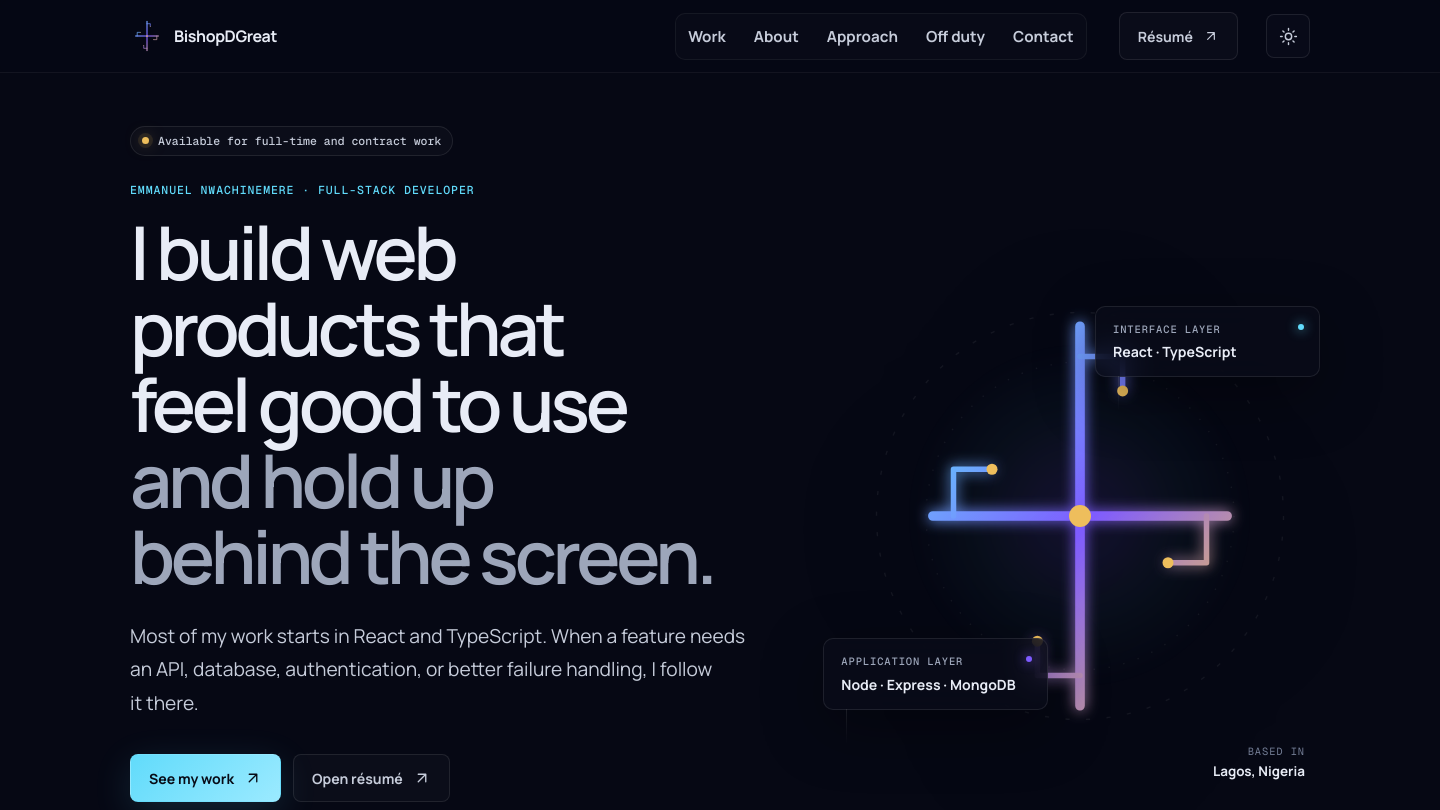
portfolio › switches theme accessibly and persists the choice
What coordinates should you click on to do the following:
click the button named "Switch to light theme"
I would click on:
 (1288, 36)
Its box is [1266, 14, 1310, 58].
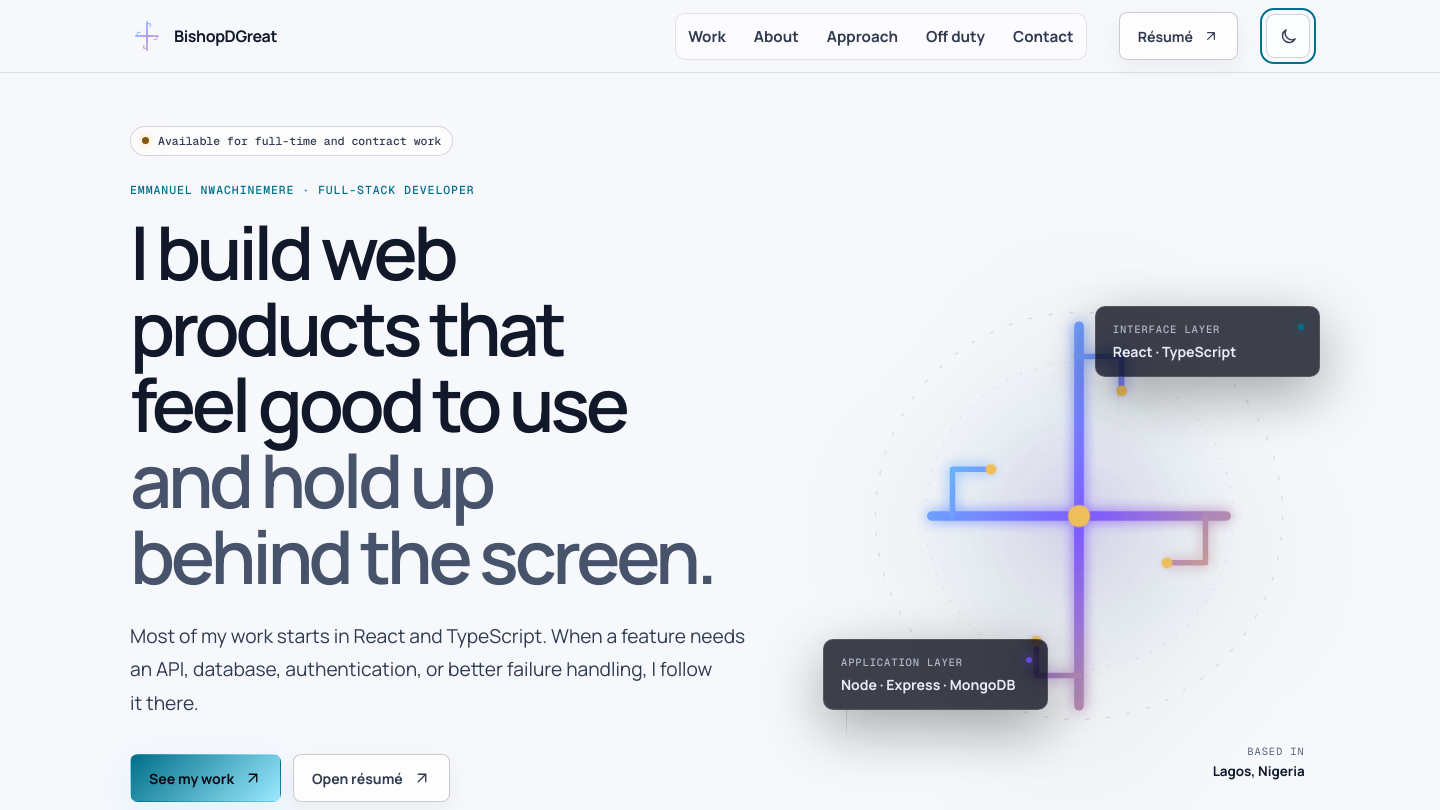
Now the button named "Switch to dark theme" is shown, box [1266, 14, 1310, 58]
